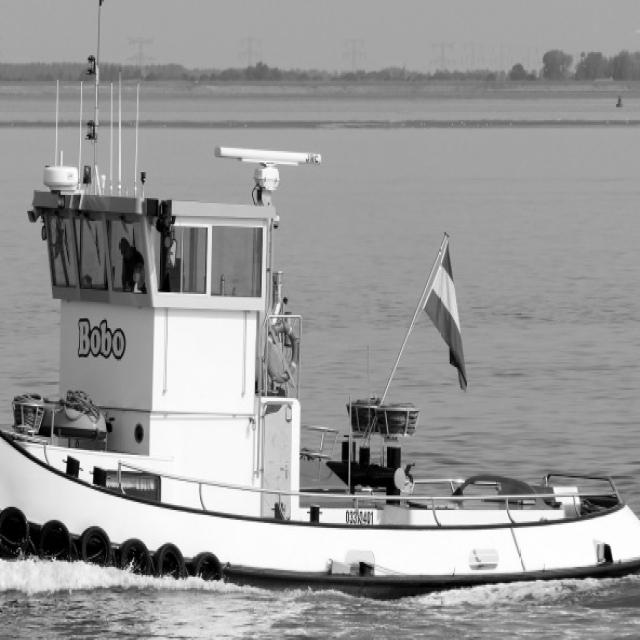tugboat: (1, 1, 640, 628)
